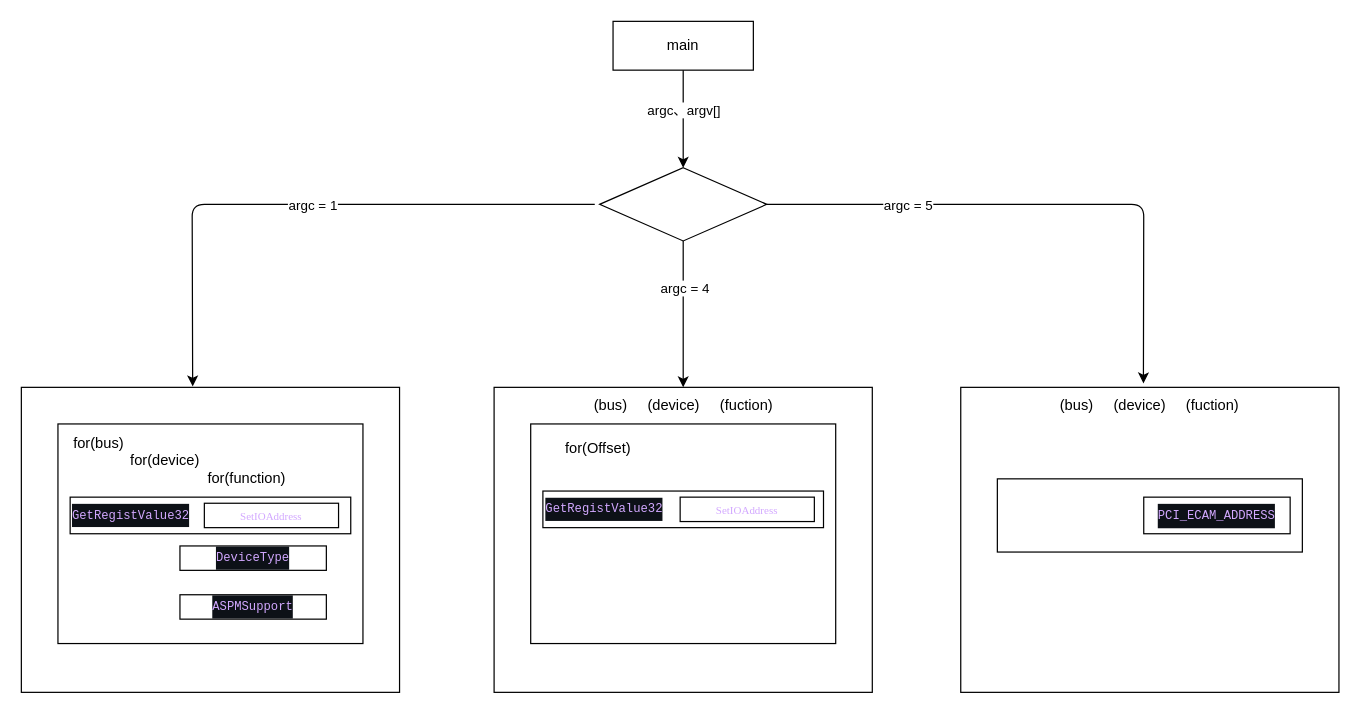
This 1360x714 diagram has some shape labels left out. Each missing label, with the box of its shape:
MmioRead8: (996, 478, 1302, 552)
switch(argc): (598, 167, 767, 241)
